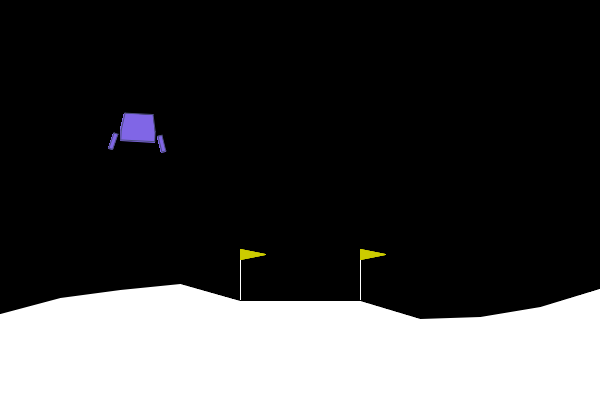lander: (107, 111, 169, 154)
